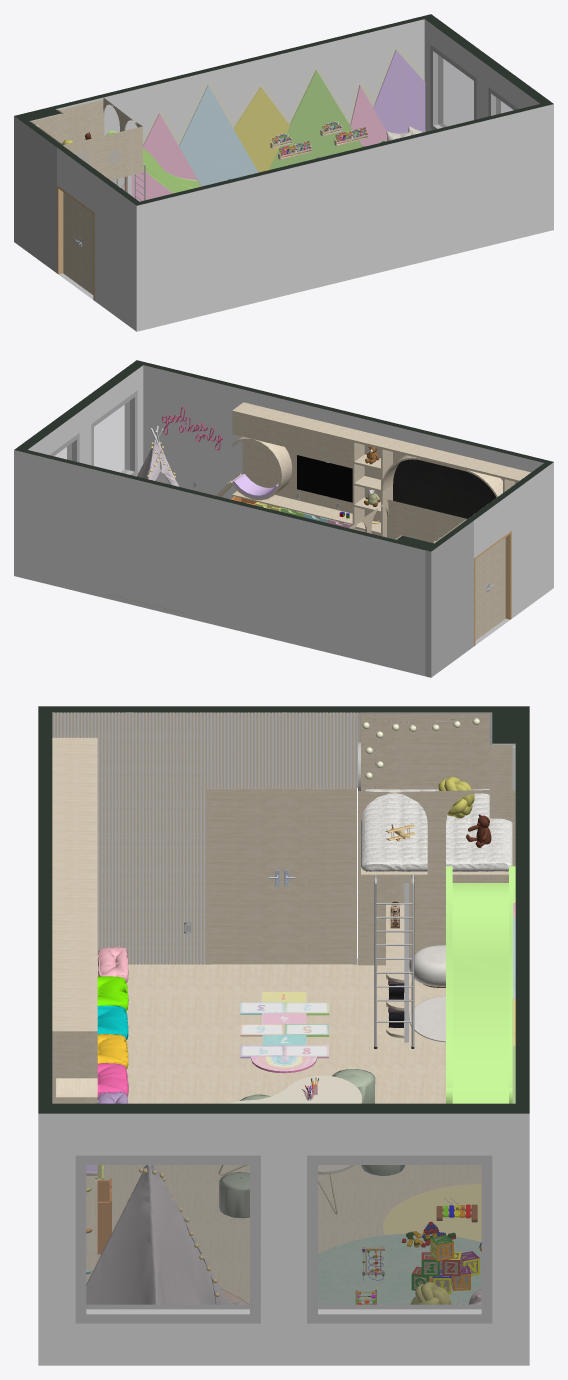
File: brinquedoteca.glb
The picture shows the model from 3 angles, top to bottom: view 1: azimuth 30°, elevation 25°; view 2: azimuth 150°, elevation 25°; view 3: azimuth 270°, elevation 25°; orthographic projection. The views are drawn at different scales.
Parts seen in each view (by area): view 1: empty_1077, empty_3, empty_2, Corte, empty_9, empty_6, empty_7, empty_5, empty_8, empty_1353, empty_374, empty_37 (+1 smaller); view 2: empty_1077, empty_3, empty_2, Corte, empty_1087, empty_374, empty_143, empty_957, empty_224, empty_5, empty_358, empty_1089; view 3: empty_3, empty_1077, empty_373, Corte, empty_2, empty_37, empty_224, empty_811, empty_355, empty_344, empty_352, empty_136 (+12 smaller).
Boxes of the visible parts, x1,y1,x2,y2 form: empty_1077: (29, 19, 553, 331); empty_3: (31, 98, 368, 294); empty_2: (14, 44, 518, 299); Corte: (14, 14, 553, 205); empty_9: (179, 85, 258, 186); empty_6: (122, 85, 387, 201); empty_7: (269, 70, 362, 169); empty_5: (373, 50, 425, 133); empty_8: (233, 87, 289, 172); empty_1353: (58, 47, 424, 145); empty_374: (438, 55, 513, 127); empty_37: (106, 131, 199, 193); empty_1077: (14, 365, 553, 676); empty_3: (215, 402, 543, 640); empty_2: (49, 390, 510, 677); Corte: (14, 360, 553, 551); empty_1087: (393, 459, 496, 518); empty_374: (54, 401, 129, 473); empty_143: (297, 455, 352, 502); empty_957: (474, 531, 511, 646); empty_224: (137, 441, 178, 486); empty_5: (232, 474, 278, 498); empty_358: (162, 407, 222, 450); empty_1089: (364, 445, 516, 535); empty_3: (52, 712, 515, 1304); empty_1077: (38, 712, 529, 1365); empty_373: (86, 1165, 481, 1309); Corte: (38, 706, 529, 1113); empty_2: (75, 712, 515, 1323); empty_37: (306, 866, 515, 1103); empty_224: (86, 1165, 228, 1304); empty_811: (361, 789, 508, 871); empty_355: (318, 1233, 481, 1304); empty_344: (240, 992, 329, 1071); empty_352: (382, 1183, 481, 1241); empty_136: (219, 1069, 404, 1218).
Size of what is drawn, in the model's own units: 10.4 by 3 by 5.3.
Materials: 244 (66 with a texture image).
